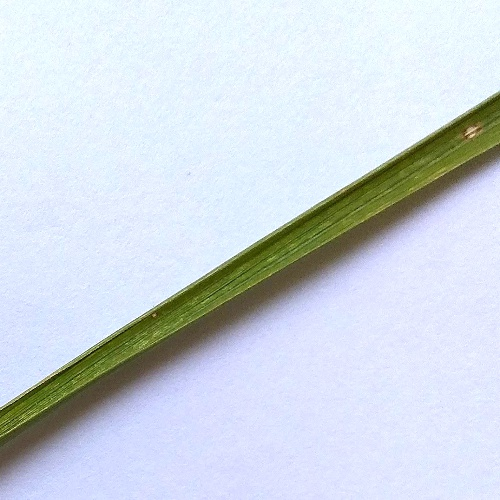Busuk Leher: (452, 113, 488, 146)
